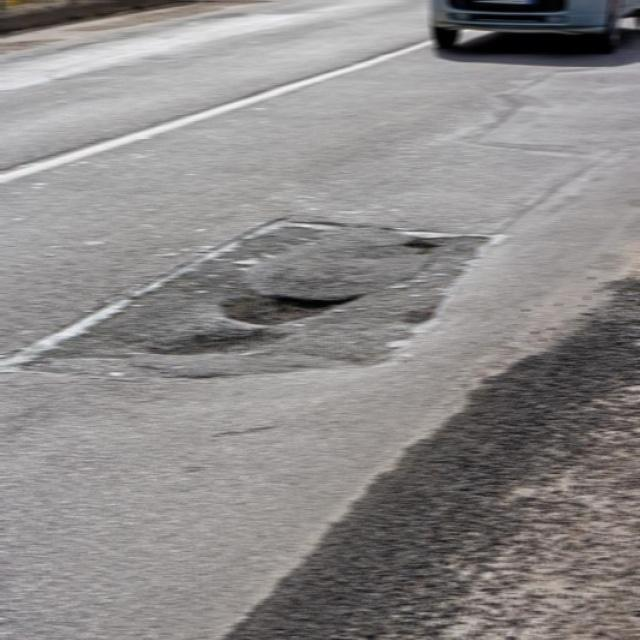Pothole: (164, 276, 371, 364), (382, 231, 460, 271)
